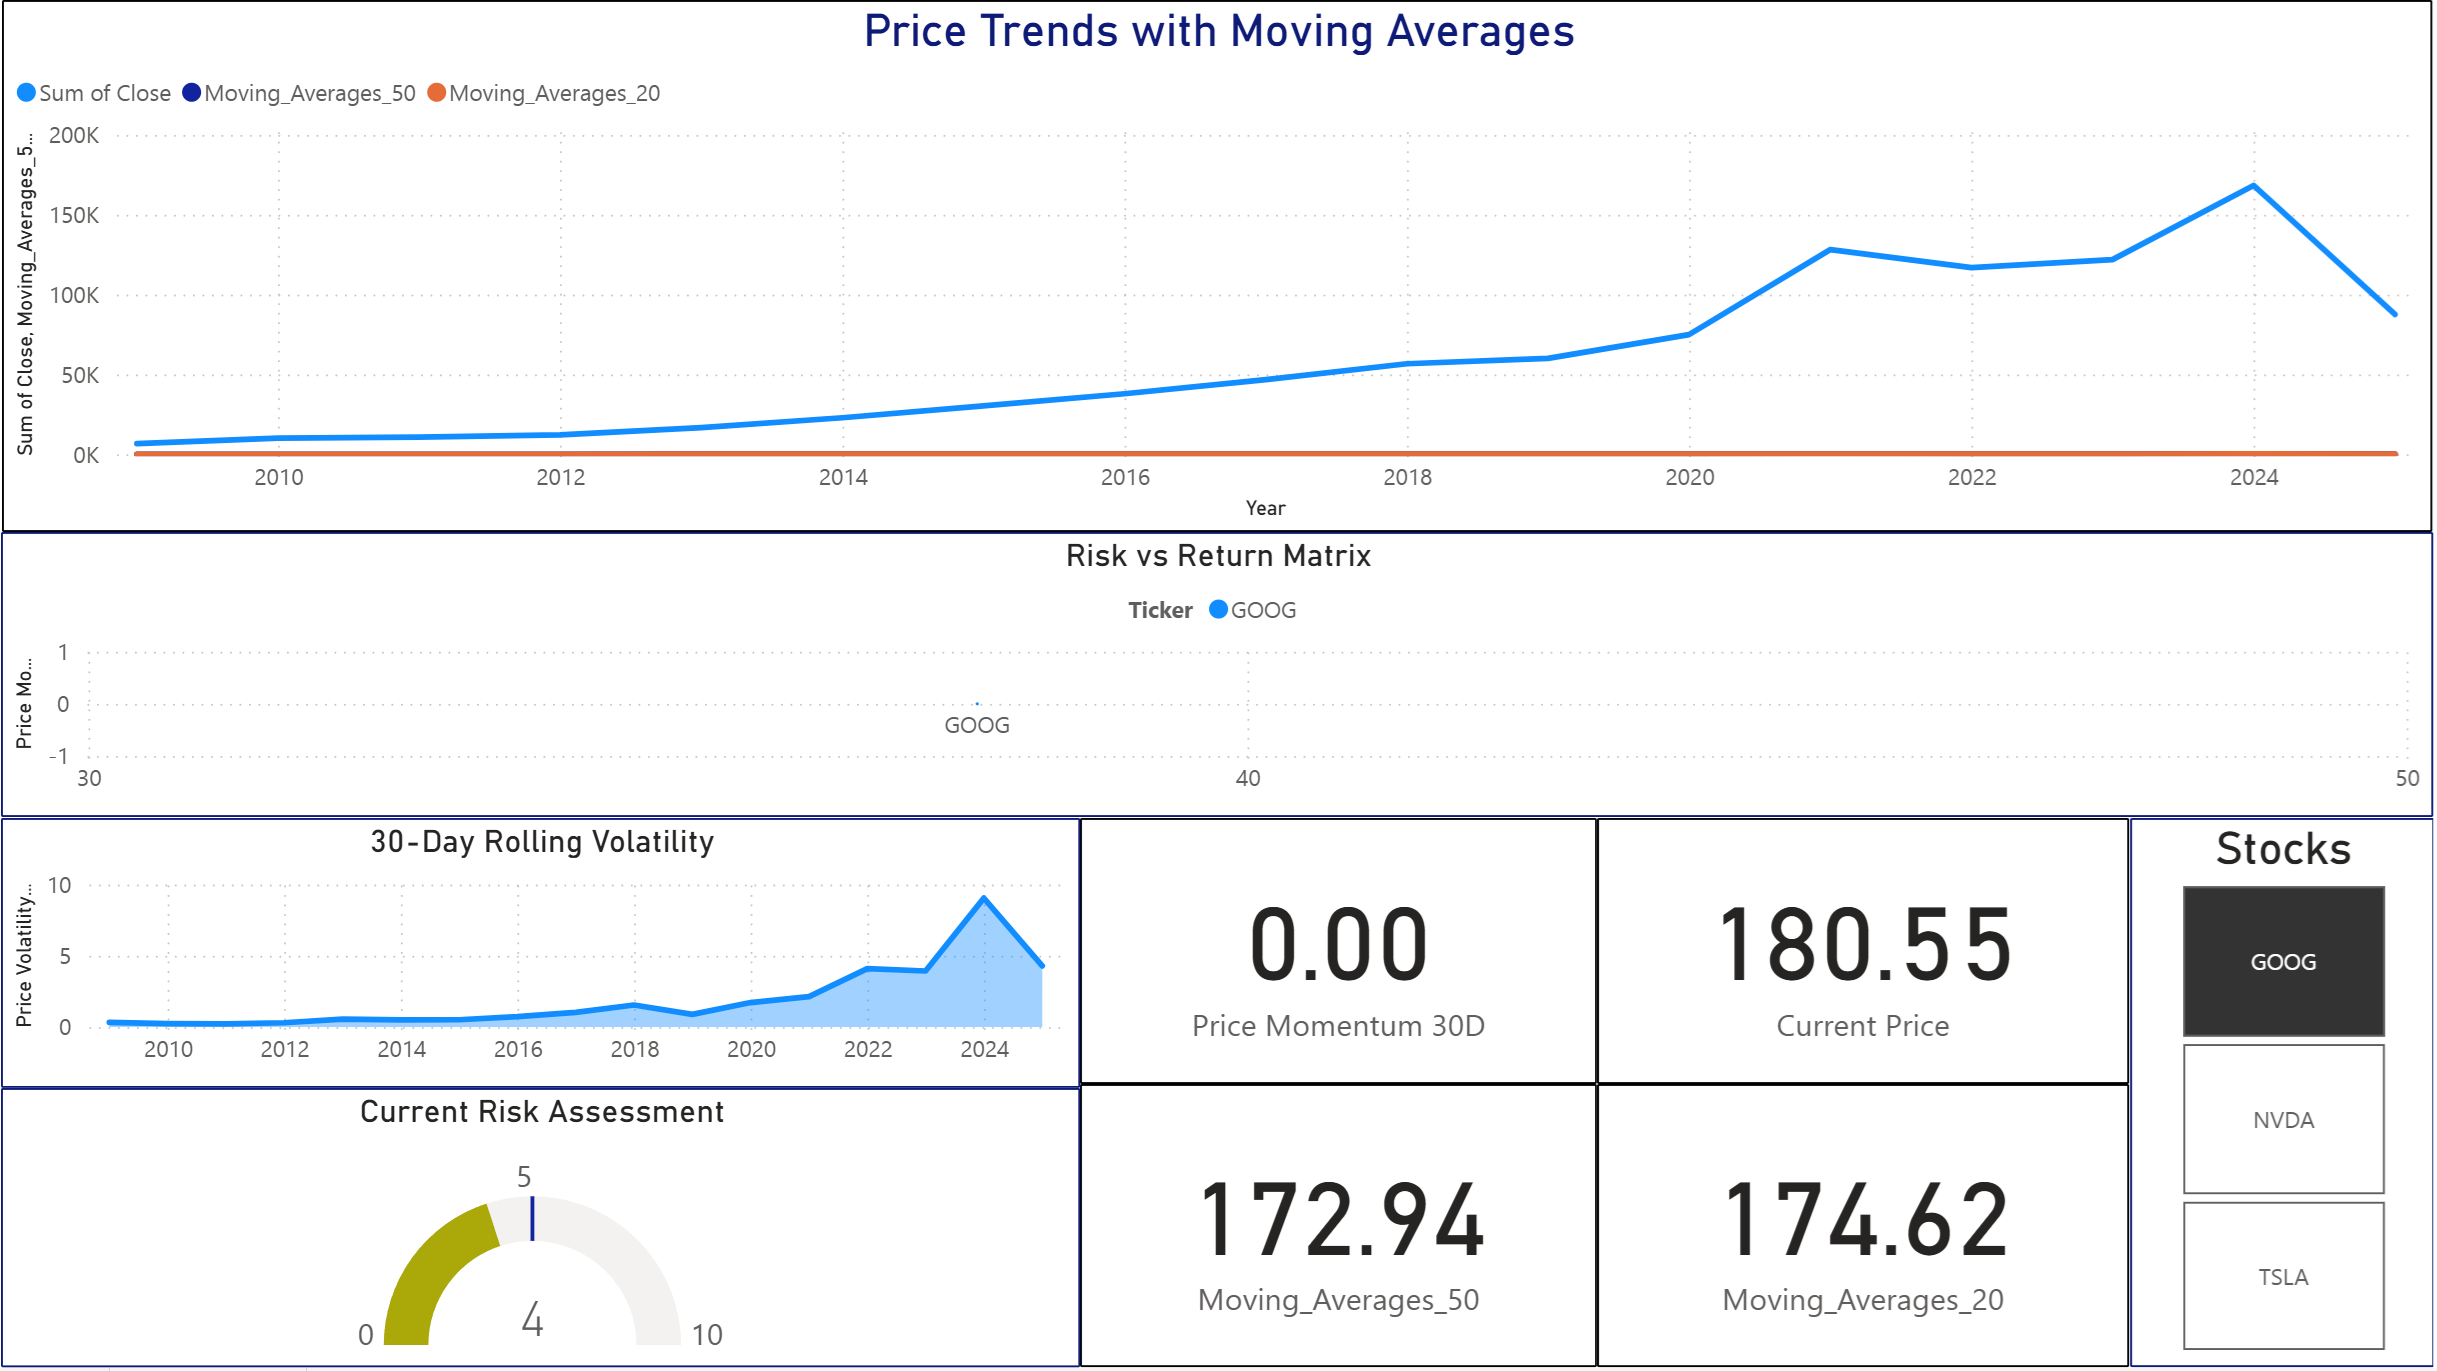

The dashboard page shown, as its layout file describes it:
{"tool":"powerbi","page":{"name":"Technical Analysis Measures","canvas":[1280,720],"ordinal":1},"visuals":[{"type":"lineChart","title":"Price Trends with Moving Averages","fields":{"Category":["Prices.Date.Variation.Date Hierarchy.Year","Prices.Date.Variation.Date Hierarchy.Quarter","Prices.Date.Variation.Date Hierarchy.Month","Prices.Date.Variation.Date Hierarchy.Day"],"Y":["Sum(Prices.Close)","Prices.Moving_Averages_50","Prices.Moving_Averages_20"]},"box":[279.9,0,839.8,279.9],"z":0},{"type":"card","fields":{"Values":["Prices.Current Price"]},"box":[0,279.9,279.9,140],"z":1},{"type":"card","fields":{"Values":["Prices.Moving_Averages_20"]},"box":[279.9,279.9,279.9,140],"z":2},{"type":"card","fields":{"Values":["Prices.Moving_Averages_50"]},"box":[559.9,279.9,279.9,140],"z":3},{"type":"card","fields":{"Values":["Prices.Price Momentum 30D"]},"box":[839.8,279.9,279.9,140],"z":4},{"type":"areaChart","title":"30-Day Rolling Volatility","fields":{"Category":["Prices.Date.Variation.Date Hierarchy.Year","Prices.Date.Variation.Date Hierarchy.Quarter","Prices.Date.Variation.Date Hierarchy.Month","Prices.Date.Variation.Date Hierarchy.Day"],"Y":["Prices.Price Volatility 30D"]},"box":[0,419.9,279.9,149.6],"z":5},{"type":"gauge","title":"Risk Assessment","fields":{"Y":["Prices.Risk Score"]},"box":[279.9,419.9,279.9,149.6],"z":6},{"type":"scatterChart","title":"Risk vs Return Analysis","fields":{"X":["Prices.Price Volatility 30D"],"Y":["Prices.Price Momentum 30D"],"Category":["Prices.Ticker"]},"box":[559.9,419.9,279.9,149.6],"z":7},{"type":"slicer","title":"Stocks","fields":{"Values":["Prices.Ticker"]},"box":[0,0,279.9,279.9],"z":8}]}

Visuals, with their boxes in screenshot pixels (x1, y1, x2, y2), scaled from the page's 1280x720 canvas onto the 2437x1371 screenshot:
"Price Trends with Moving Averages" lineChart: [left=533, top=0, right=2132, bottom=533]
card - Prices.Current Price: [left=0, top=533, right=533, bottom=800]
card - Prices.Moving_Averages_20: [left=533, top=533, right=1066, bottom=800]
card - Prices.Moving_Averages_50: [left=1066, top=533, right=1599, bottom=800]
card - Prices.Price Momentum 30D: [left=1599, top=533, right=2132, bottom=800]
"30-Day Rolling Volatility" areaChart: [left=0, top=800, right=533, bottom=1084]
"Risk Assessment" gauge: [left=533, top=800, right=1066, bottom=1084]
"Risk vs Return Analysis" scatterChart: [left=1066, top=800, right=1599, bottom=1084]
"Stocks" slicer: [left=0, top=0, right=533, bottom=533]
